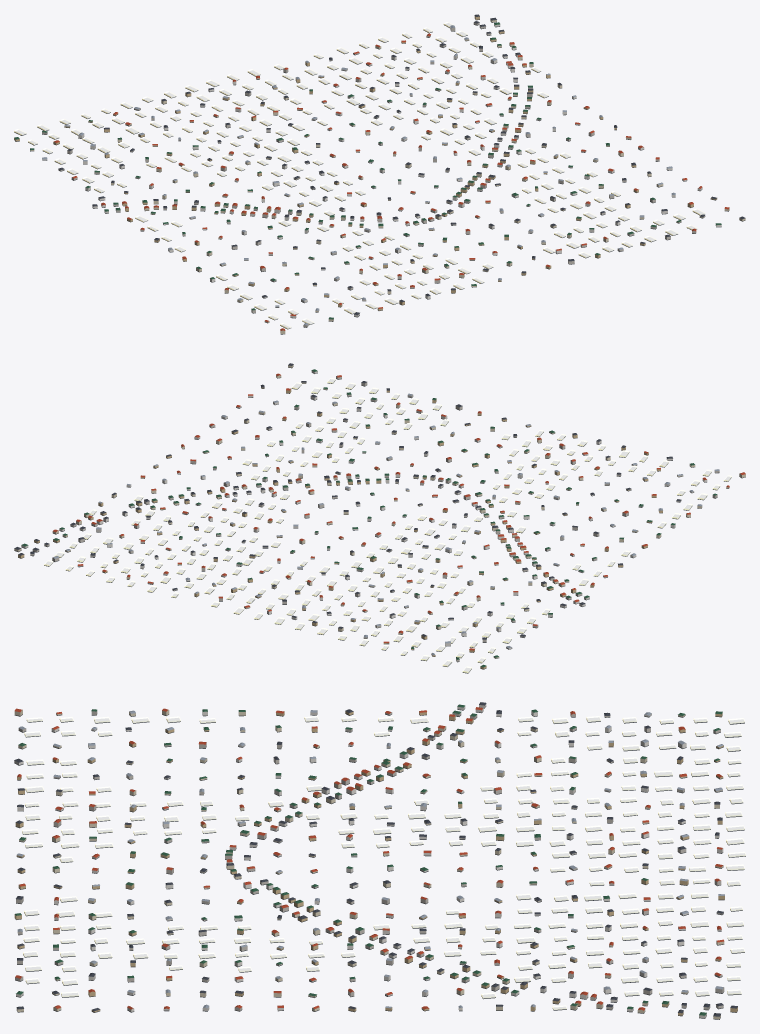
File: buildings_T_E08_S05.glb
3 views of the same model, one above another, from view 1: azimuth 30°, elevation 25°; view 2: azimuth 150°, elevation 25°; view 3: azimuth 270°, elevation 25° (orthographic). The views are drawn at different scales.
Parts seen in each view (by area): view 1: T_E08_S05_roofs_agri_greenhouse_arch, T_E08_S05_slope_seating_foundations, T_E08_S05_walls_wall_french_ochre_villa, T_E08_S05_walls_wall_modern_warm_white, T_E08_S05_roofs_roof_terracotta_gable, T_E08_S05_walls_wall_dalat_cream_stucco, T_E08_S05_walls_wall_pastel_sand_gray, T_E08_S05_roofs_roof_slate_French_villa_hip, T_E08_S05_roofs_roof_pine_green_hip, T_E08_S05_roofs_roof_zinc_silver_gable; view 2: T_E08_S05_roofs_agri_greenhouse_arch, T_E08_S05_slope_seating_foundations, T_E08_S05_walls_wall_french_ochre_villa, T_E08_S05_walls_wall_modern_warm_white, T_E08_S05_walls_wall_pastel_sand_gray, T_E08_S05_walls_wall_dalat_cream_stucco, T_E08_S05_roofs_roof_terracotta_gable, T_E08_S05_roofs_roof_slate_French_villa_hip, T_E08_S05_roofs_roof_pine_green_hip, T_E08_S05_roofs_roof_zinc_silver_gable; view 3: T_E08_S05_roofs_agri_greenhouse_arch, T_E08_S05_slope_seating_foundations, T_E08_S05_walls_wall_french_ochre_villa, T_E08_S05_walls_wall_modern_warm_white, T_E08_S05_walls_wall_dalat_cream_stucco, T_E08_S05_walls_wall_pastel_sand_gray, T_E08_S05_roofs_roof_terracotta_gable, T_E08_S05_roofs_roof_slate_French_villa_hip, T_E08_S05_roofs_roof_pine_green_hip, T_E08_S05_roofs_roof_zinc_silver_gable.
Part boxes in pixels (x1=…): T_E08_S05_roofs_agri_greenhouse_arch: x1=14, y1=22, x2=705, y2=328; T_E08_S05_slope_seating_foundations: x1=14, y1=19, x2=745, y2=334; T_E08_S05_walls_wall_french_ochre_villa: x1=14, y1=16, x2=717, y2=310; T_E08_S05_walls_wall_modern_warm_white: x1=42, y1=24, x2=721, y2=317; T_E08_S05_roofs_roof_terracotta_gable: x1=53, y1=33, x2=729, y2=330; T_E08_S05_walls_wall_dalat_cream_stucco: x1=30, y1=19, x2=745, y2=333; T_E08_S05_walls_wall_pastel_sand_gray: x1=42, y1=22, x2=696, y2=327; T_E08_S05_roofs_roof_slate_French_villa_hip: x1=58, y1=14, x2=745, y2=314; T_E08_S05_roofs_roof_pine_green_hip: x1=14, y1=22, x2=721, y2=319; T_E08_S05_roofs_roof_zinc_silver_gable: x1=42, y1=25, x2=675, y2=325; T_E08_S05_roofs_agri_greenhouse_arch: x1=44, y1=378, x2=731, y2=672; T_E08_S05_slope_seating_foundations: x1=14, y1=366, x2=745, y2=673; T_E08_S05_walls_wall_french_ochre_villa: x1=18, y1=387, x2=662, y2=669; T_E08_S05_walls_wall_modern_warm_white: x1=21, y1=370, x2=707, y2=649; T_E08_S05_walls_wall_pastel_sand_gray: x1=30, y1=376, x2=719, y2=661; T_E08_S05_walls_wall_dalat_cream_stucco: x1=14, y1=365, x2=745, y2=658; T_E08_S05_roofs_roof_terracotta_gable: x1=53, y1=373, x2=745, y2=650; T_E08_S05_roofs_roof_slate_French_villa_hip: x1=14, y1=363, x2=681, y2=639; T_E08_S05_roofs_roof_pine_green_hip: x1=22, y1=369, x2=717, y2=667; T_E08_S05_roofs_roof_zinc_silver_gable: x1=53, y1=393, x2=719, y2=655; T_E08_S05_roofs_agri_greenhouse_arch: x1=22, y1=716, x2=745, y2=1009; T_E08_S05_slope_seating_foundations: x1=14, y1=706, x2=745, y2=1019; T_E08_S05_walls_wall_french_ochre_villa: x1=14, y1=711, x2=737, y2=1015; T_E08_S05_walls_wall_modern_warm_white: x1=14, y1=704, x2=723, y2=1018; T_E08_S05_walls_wall_dalat_cream_stucco: x1=14, y1=710, x2=724, y2=1019; T_E08_S05_walls_wall_pastel_sand_gray: x1=15, y1=710, x2=724, y2=1010; T_E08_S05_roofs_roof_terracotta_gable: x1=14, y1=707, x2=724, y2=1010; T_E08_S05_roofs_roof_slate_French_villa_hip: x1=14, y1=702, x2=737, y2=1016; T_E08_S05_roofs_roof_pine_green_hip: x1=15, y1=704, x2=722, y2=1015; T_E08_S05_roofs_roof_zinc_silver_gable: x1=17, y1=710, x2=724, y2=1008.
Bounding box in the file's own units: 1798 × 28.45 × 1750.
